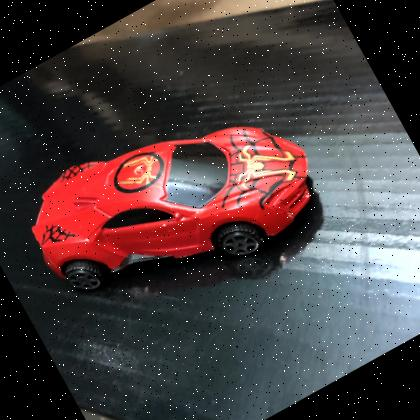Car: (32, 126, 316, 294)
